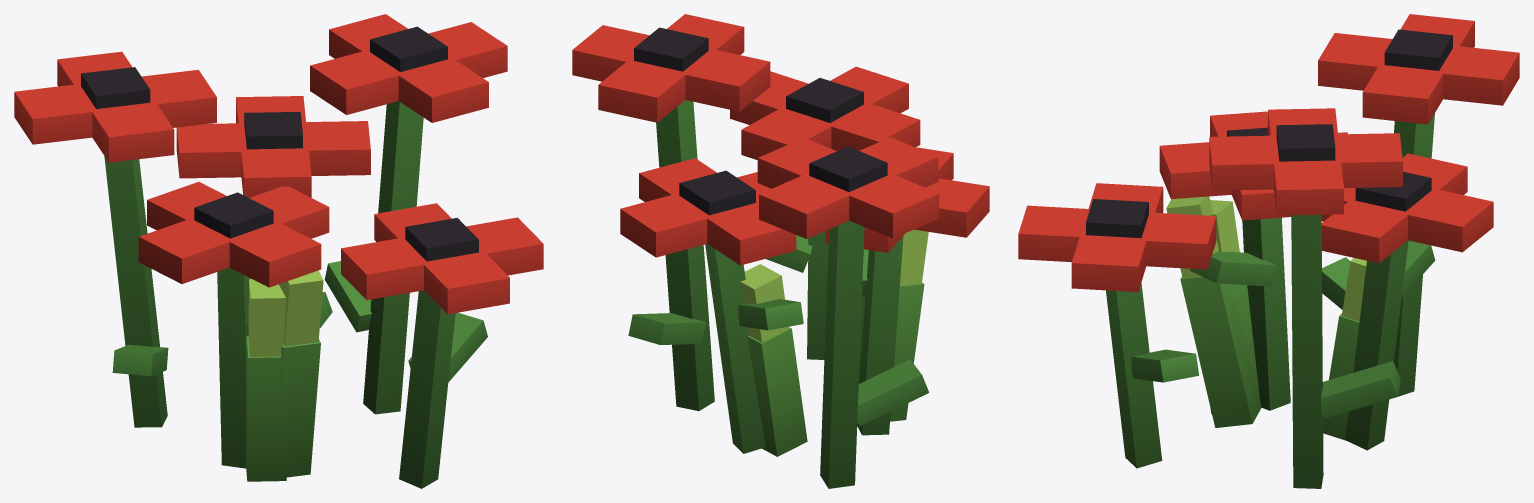
File: B07_flowers_red.glb
3 renders of one model, left to right at view 1: azimuth 30°, elevation 25°; view 2: azimuth 150°, elevation 25°; view 3: azimuth 270°, elevation 25°, orthographic.
Parts seen in each view (by area): view 1: B07_flowers_red; view 2: B07_flowers_red; view 3: B07_flowers_red.
Part boxes in pixels (bbox=[...]): B07_flowers_red: bbox=[14, 14, 543, 488]; B07_flowers_red: bbox=[572, 14, 989, 488]; B07_flowers_red: bbox=[1018, 14, 1519, 488].
Bounding box in the file's own units: 0.8371 × 0.711 × 0.8932.
